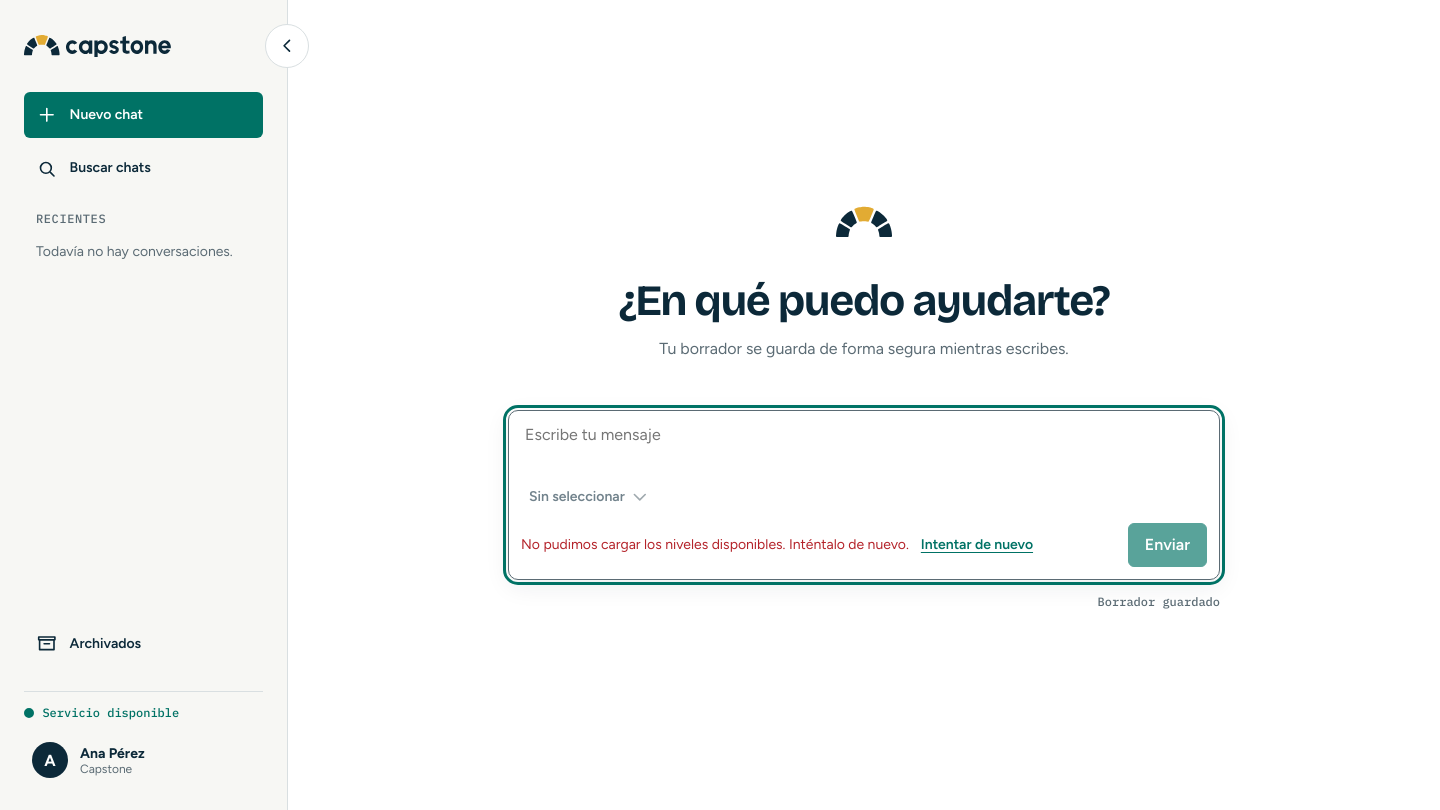
it: identity routes › replaces the authenticated session cache immediately after sign-out
Expected: the heading "¿En qué puedo ayudarte?" is shown, left=619, top=275, right=1109, bottom=327
Click the text "Ana Pérez".
click(112, 753)  # box left=80, top=744, right=145, bottom=762
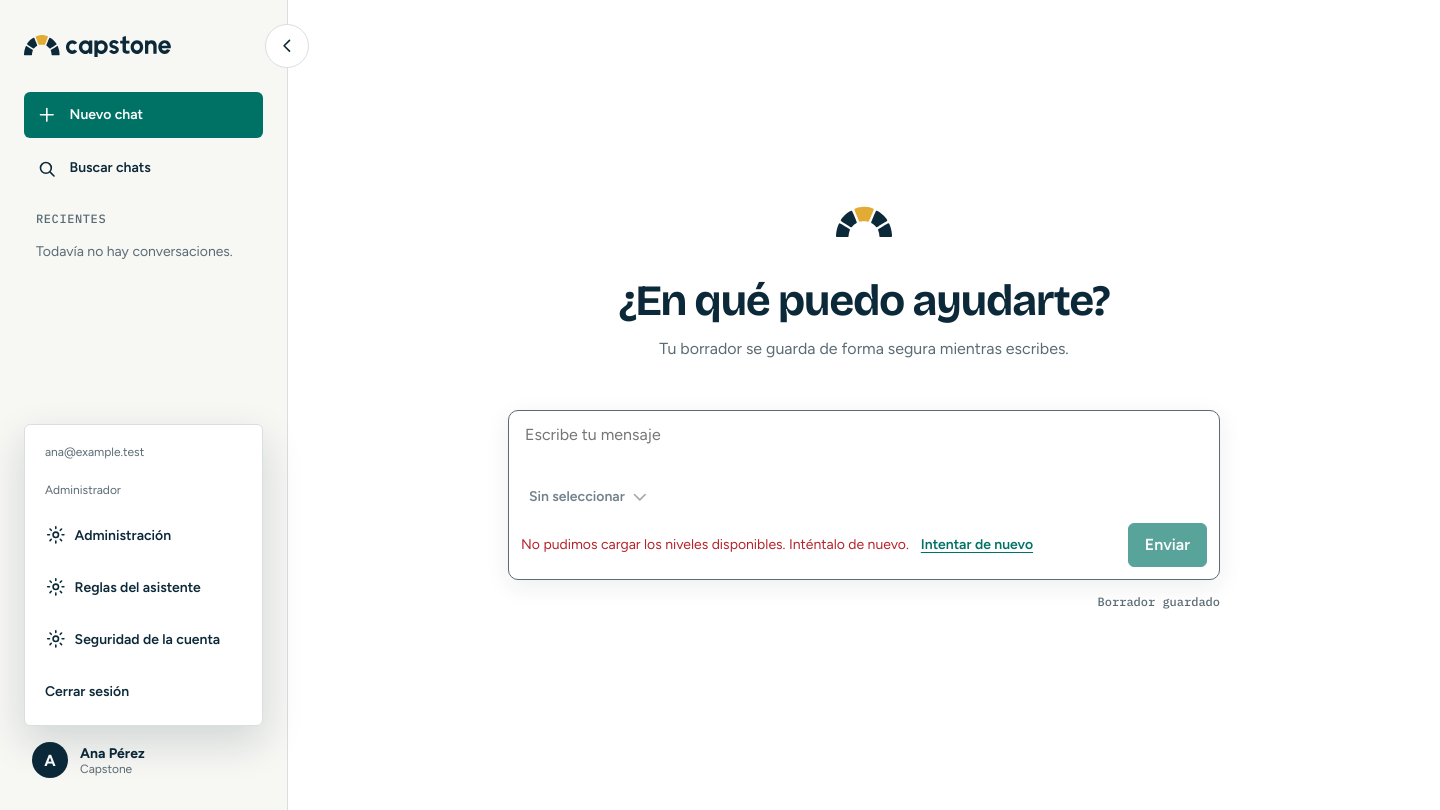
Click the button "Cerrar sesión".
click(144, 691)  # box left=37, top=669, right=250, bottom=713
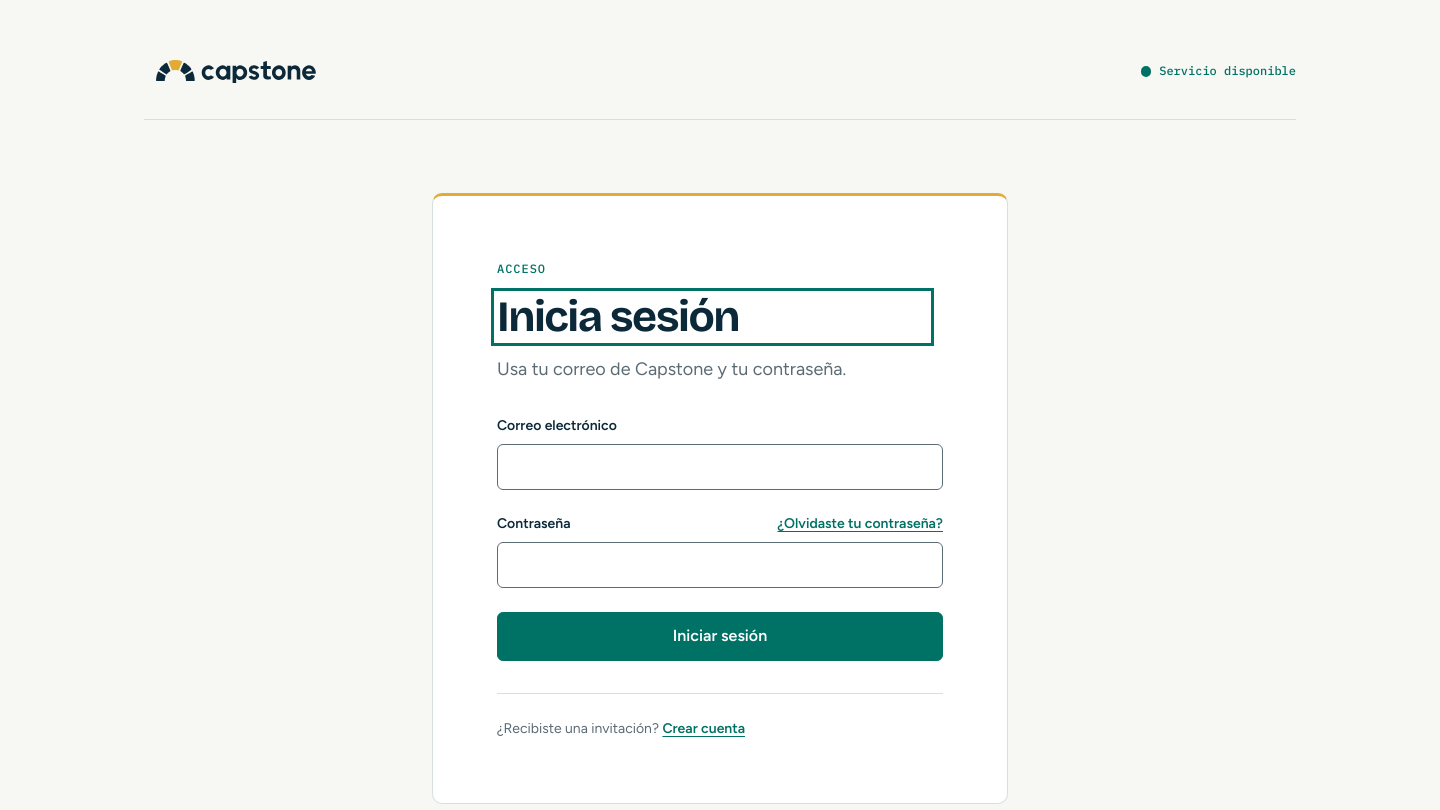
Now the heading "Inicia sesión" is shown, box left=497, top=291, right=739, bottom=343
Now the text "ana@example.test" is gone
